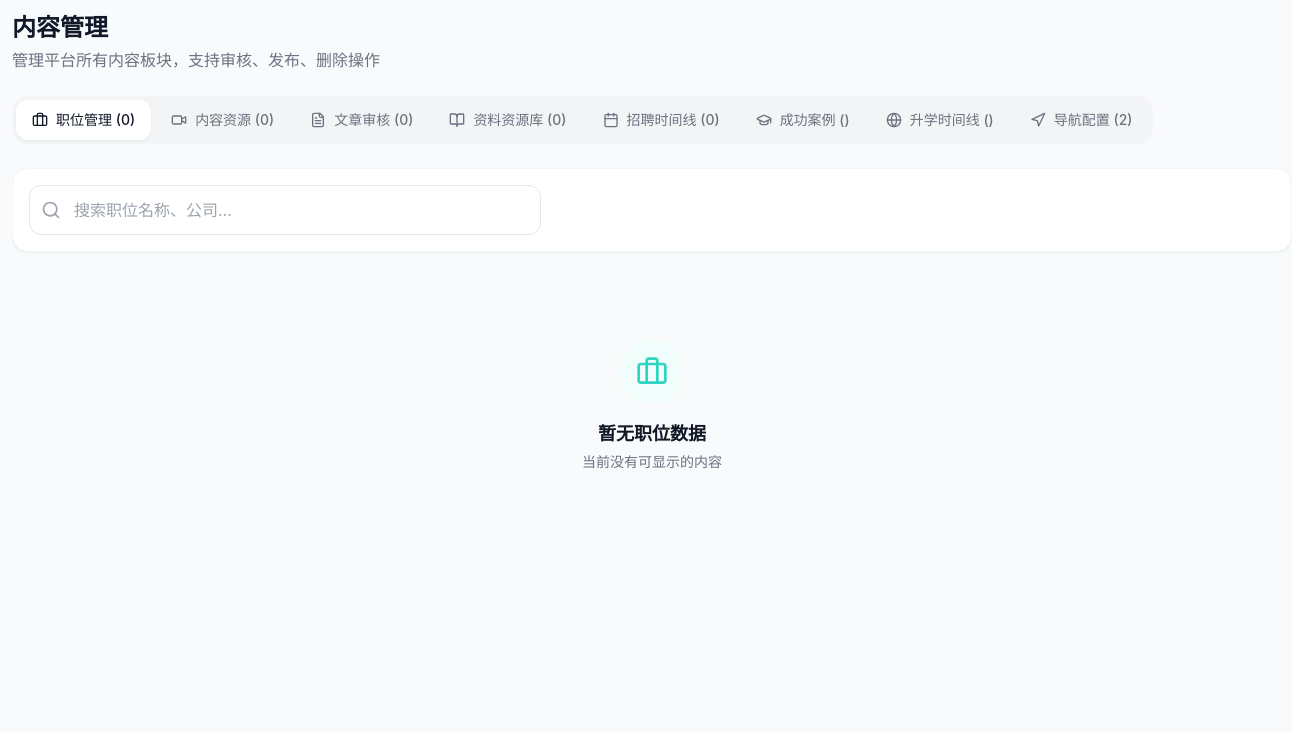
AdminContent - nav config tab › click add nav opens add form
What coordinates should you click on to do the following:
click the button "导航配置 (2)"
I would click on:
 (1081, 120)
Its box is [1014, 100, 1148, 140].
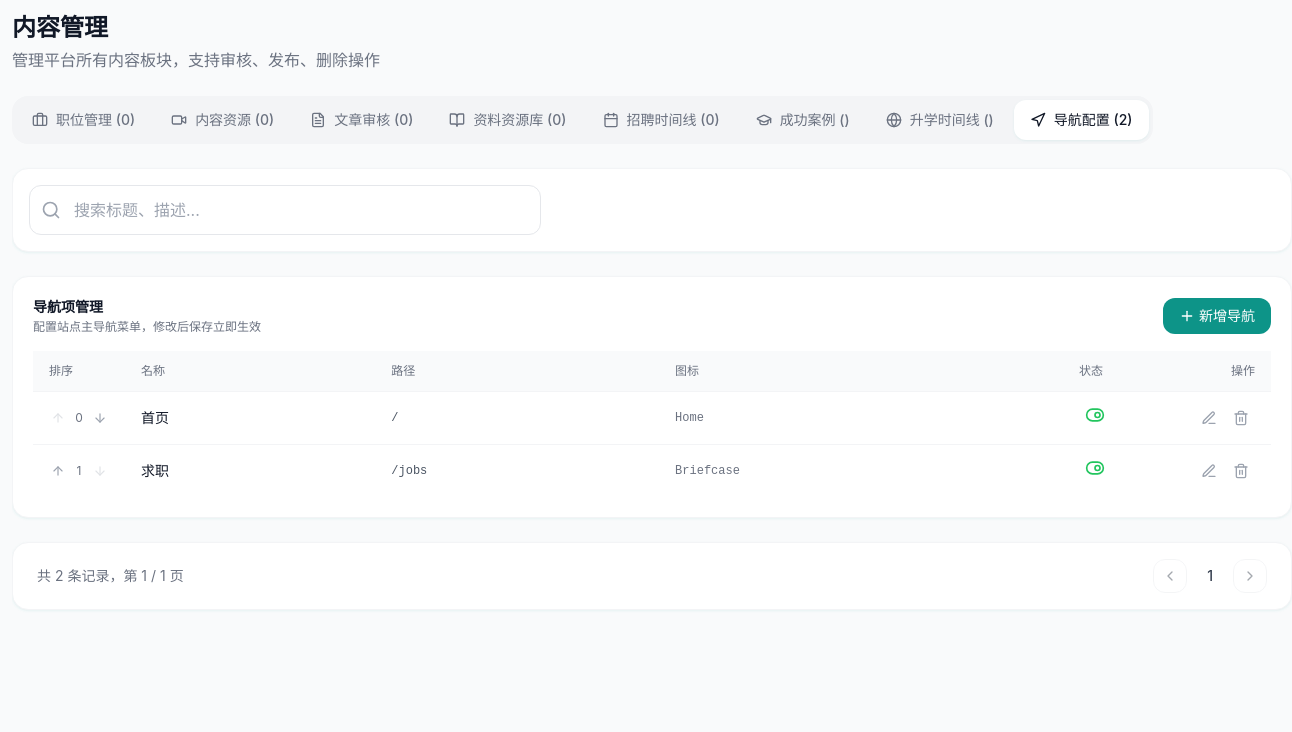
Check: the button "新增导航" is shown
What coordinates should you click on to do the following:
click the button "新增导航"
I would click on:
 (1217, 316)
Its box is [1163, 298, 1271, 334].
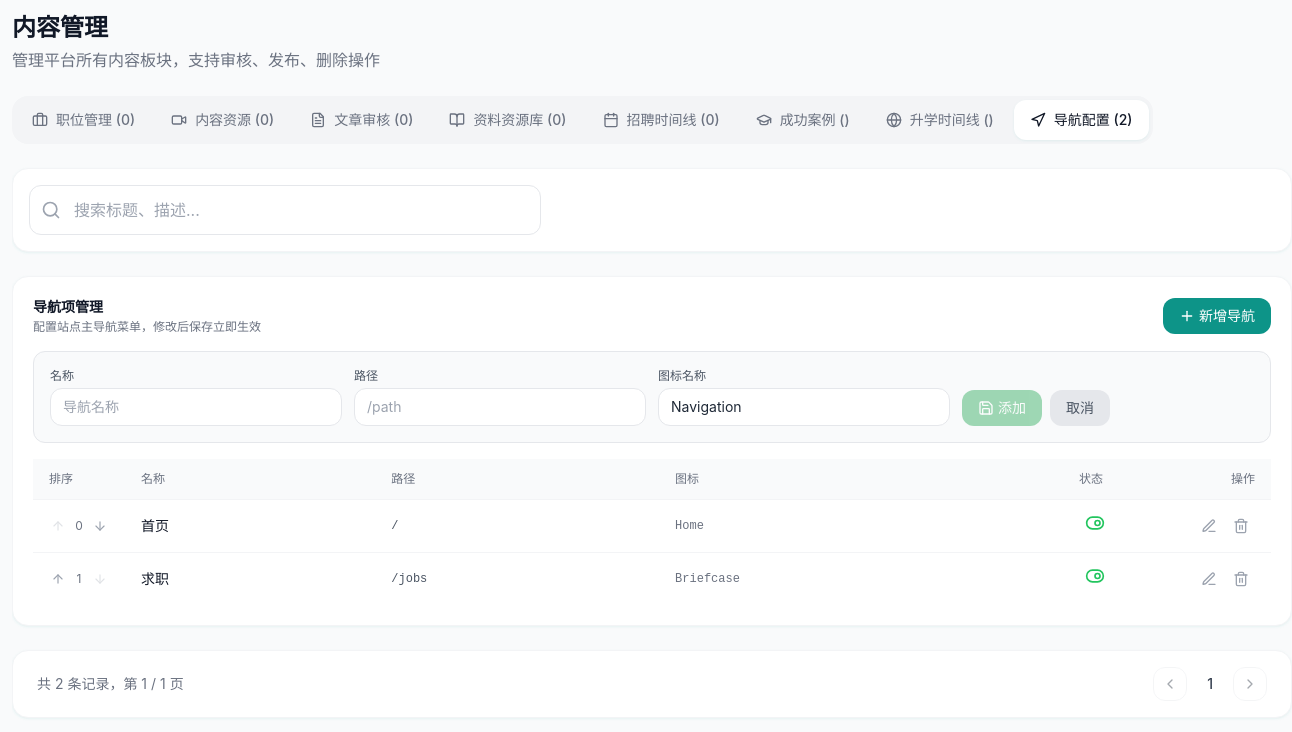
Check: the field with placeholder "导航名称" is shown, box [50, 388, 342, 426]
